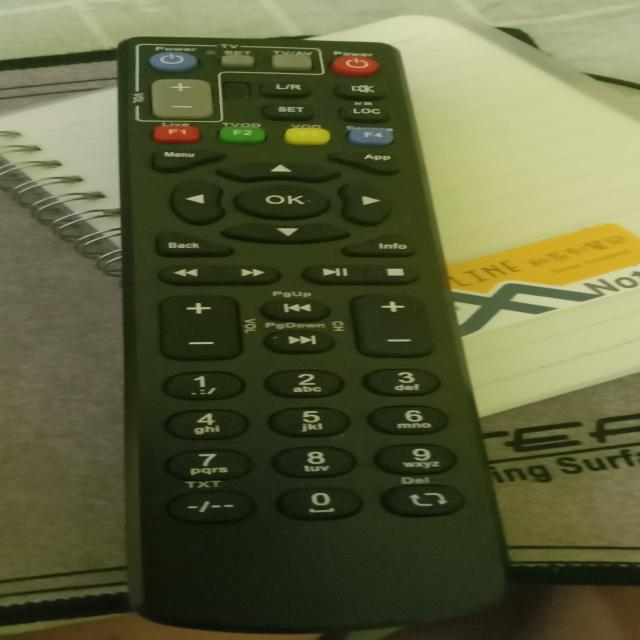remote: (86, 34, 498, 628)
